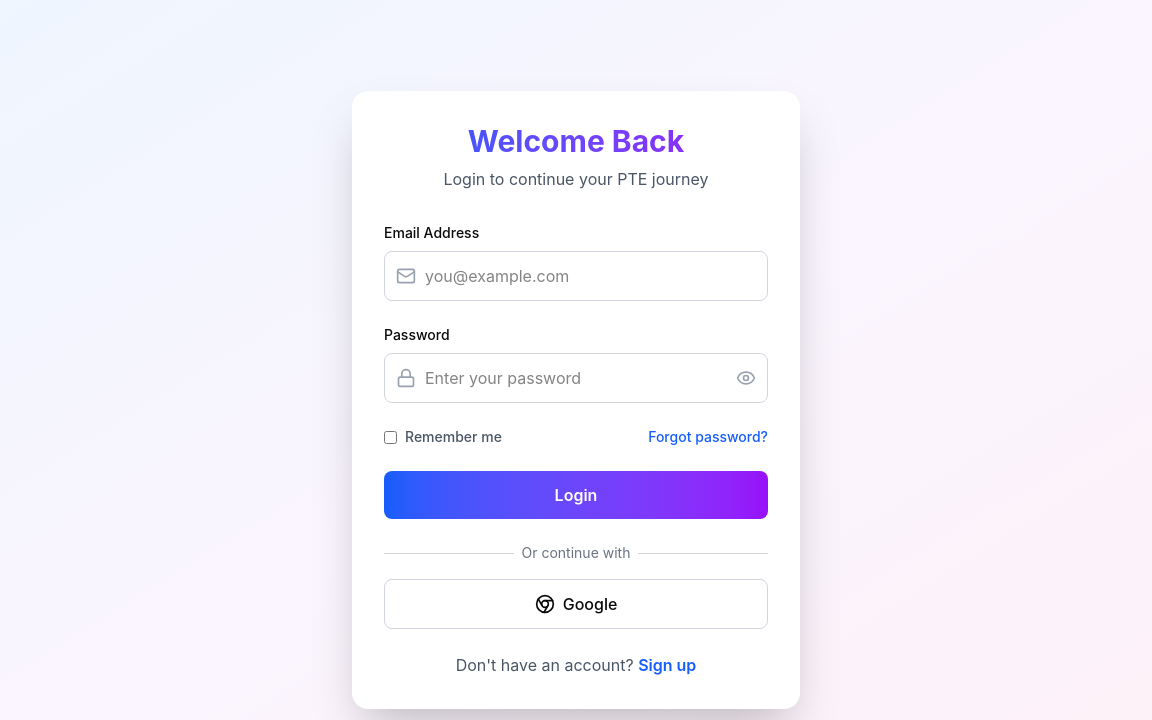
Test: LoginPage - email/password validation › disables submit button while loading
The width and height of the screenshot is (1152, 720).
Type "test@test.com" into the field with placeholder "you@example.com".
click(576, 276); type("test@test.com")  # box [384, 251, 768, 301]
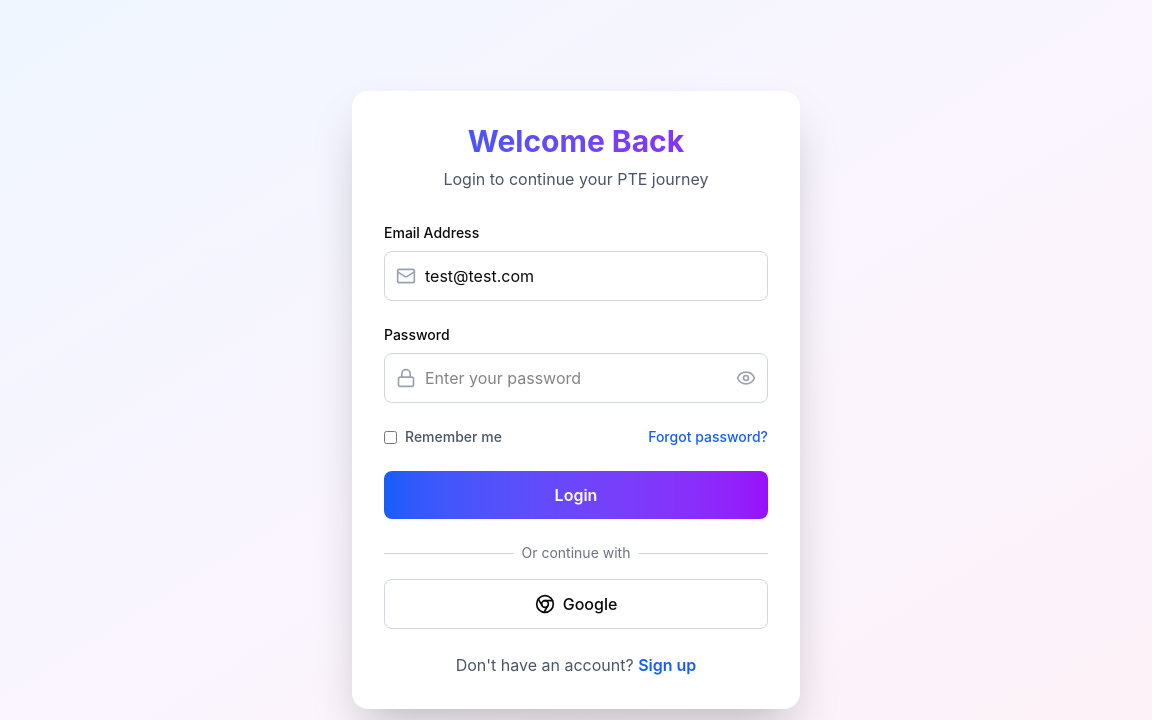
Type "password123" into the password field with placeholder "Enter your password".
click(576, 378); type("password123")  # box [384, 353, 768, 403]
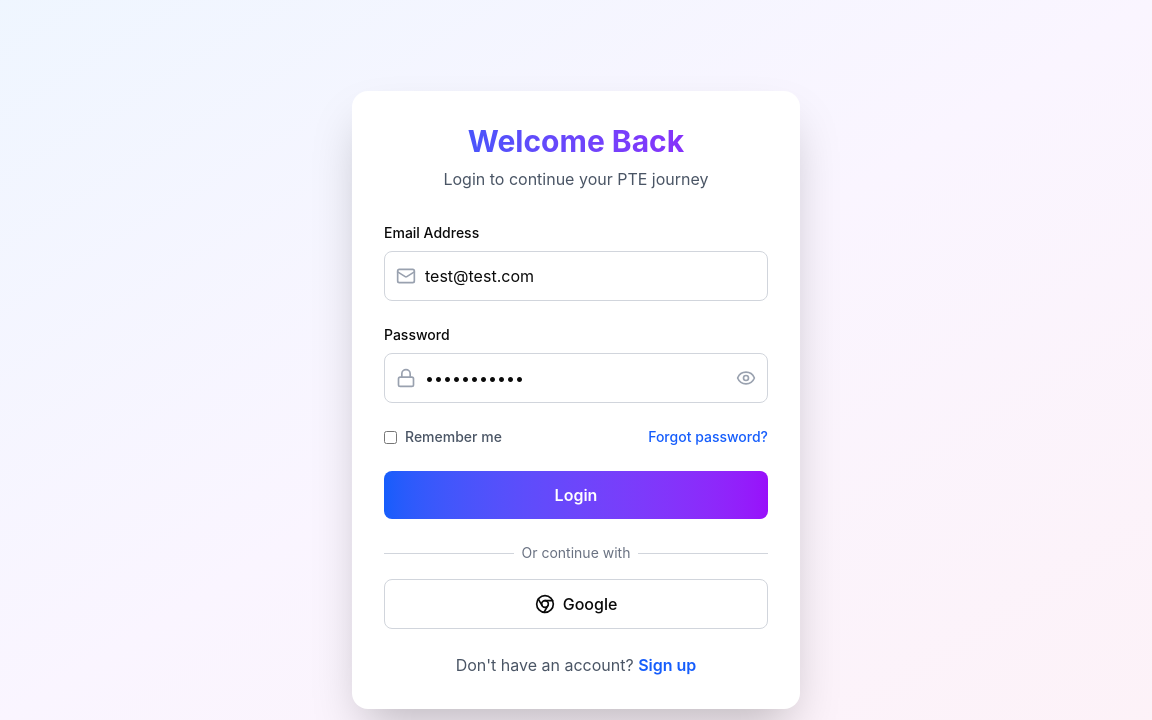
Click the button "Login".
click(576, 495)  # box [384, 471, 768, 519]
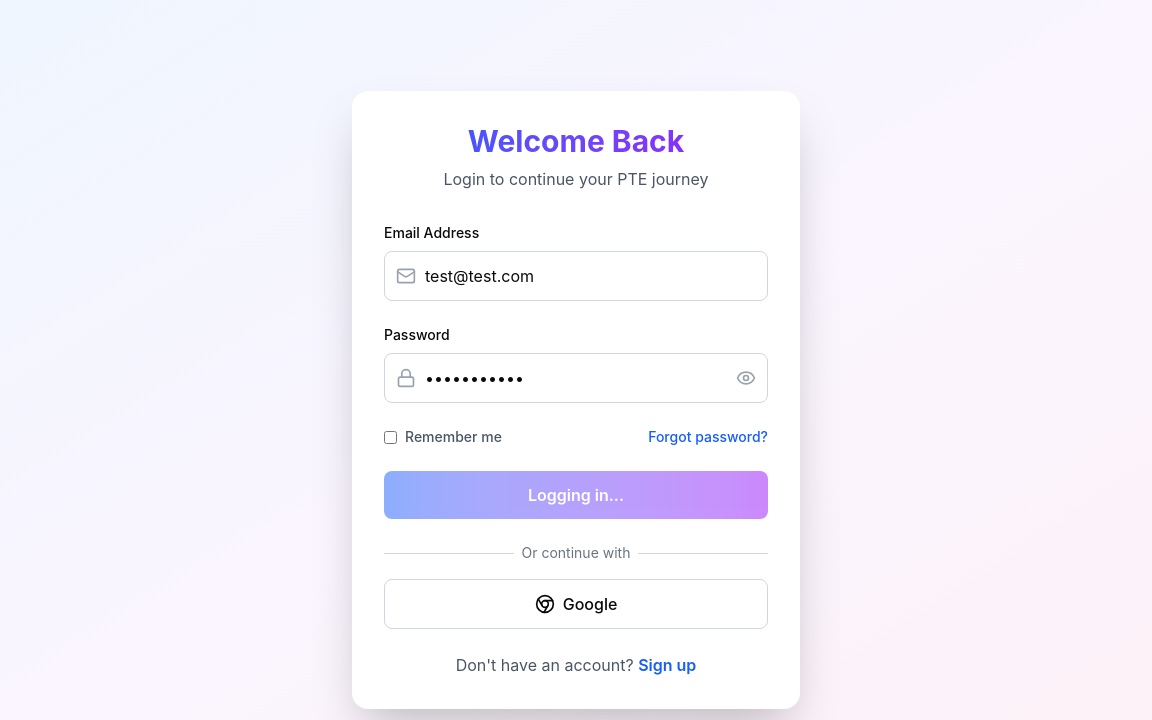
Result: the button "Logging in..." is shown at [384, 471, 768, 519]
